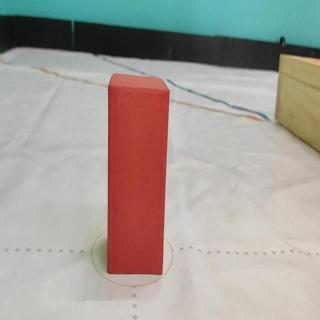redbox: (108, 73, 169, 276)
